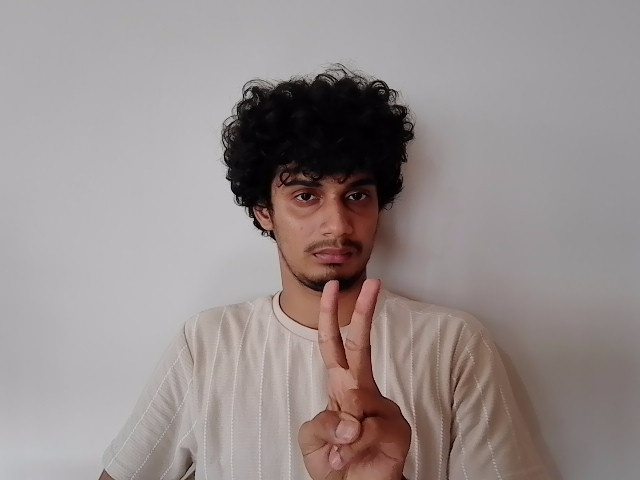travel: (292, 273, 424, 479)
